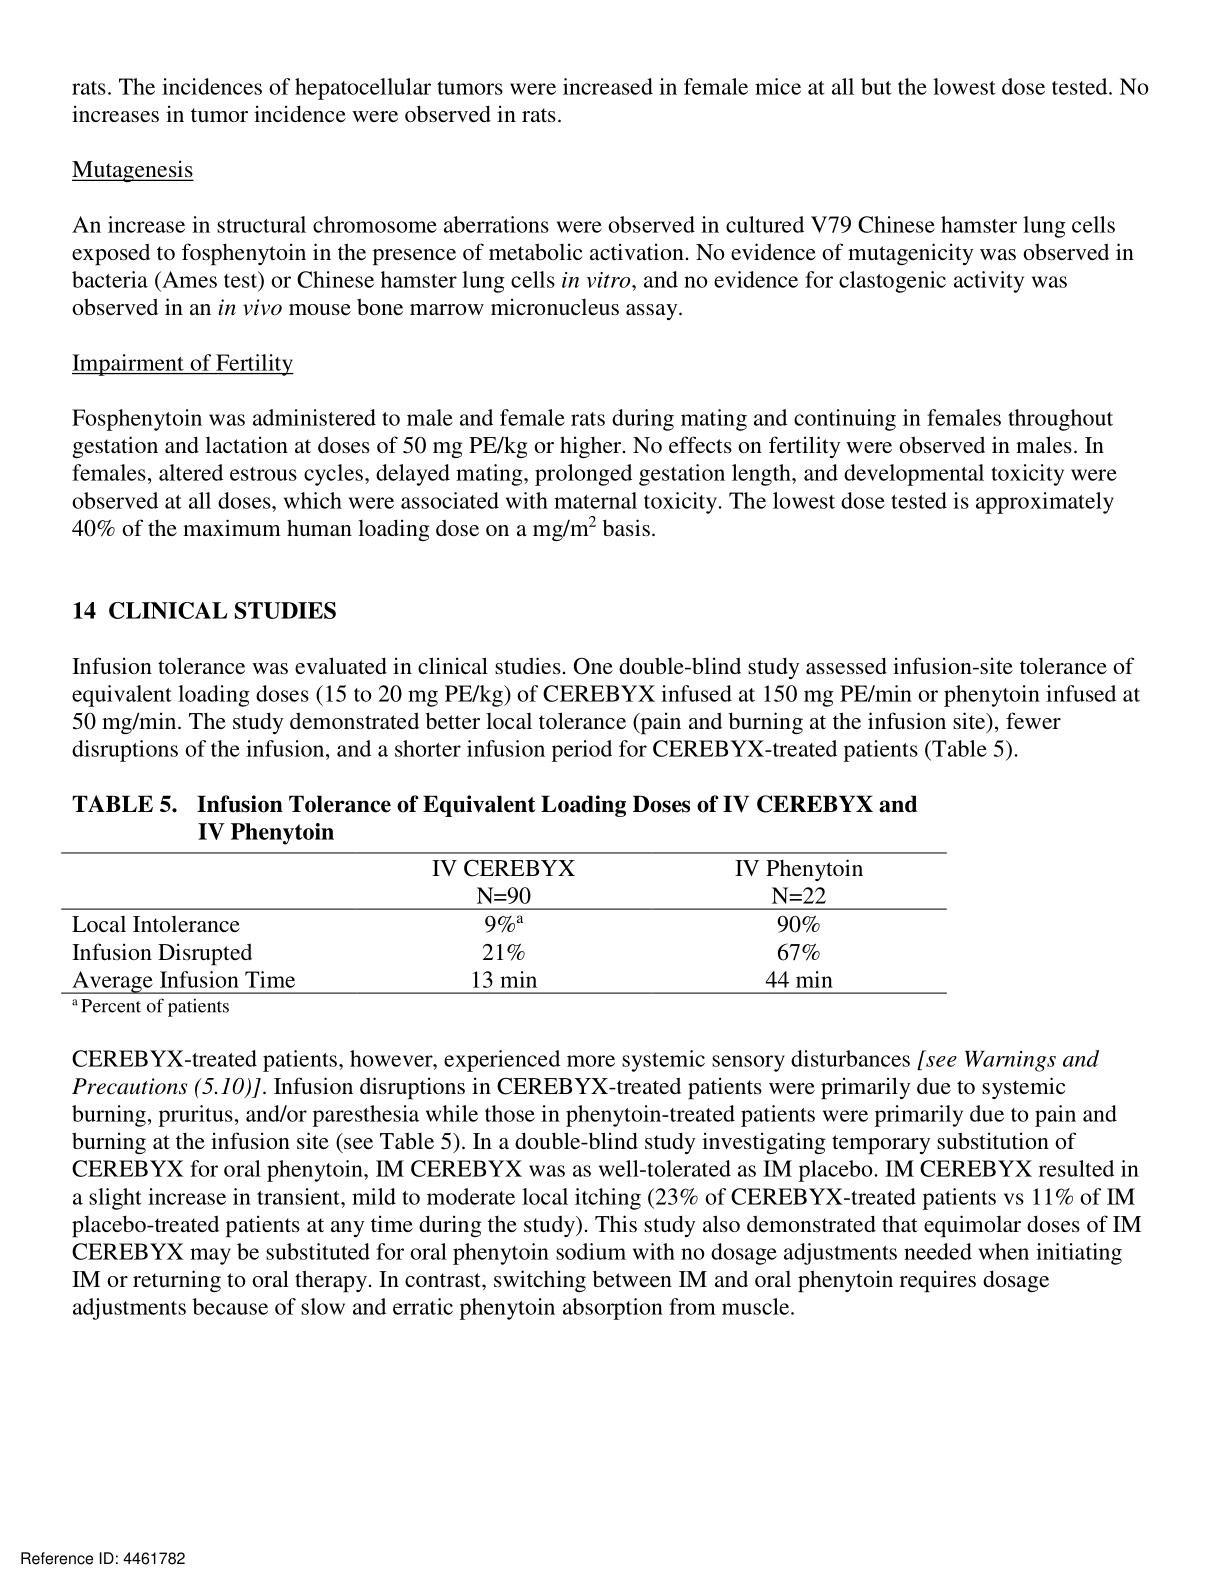partial_lined: (59, 851, 948, 995)
